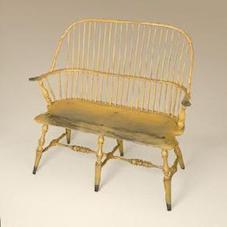chair: (9, 9, 196, 222)
